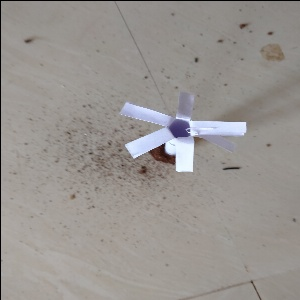weed: (120, 91, 240, 171)
